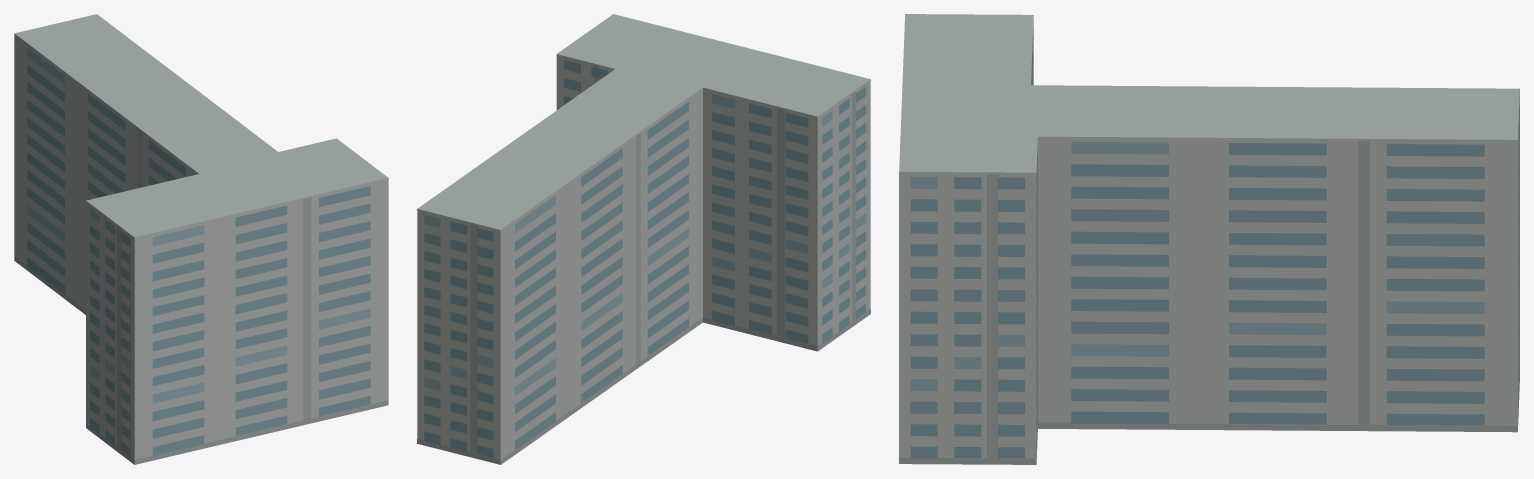
File: residential-25ec8b04-243b-4d91-824a-9ffa0737d2aa.glb
3 views of the same model, side by side, from view 1: azimuth 30°, elevation 25°; view 2: azimuth 150°, elevation 25°; view 3: azimuth 270°, elevation 25° (orthographic). The views are drawn at different scales.
Parts seen in each view (by area): view 1: residential-25ec8b04-243b-4d91-824a-9ffa0737d2aa.tmp; view 2: residential-25ec8b04-243b-4d91-824a-9ffa0737d2aa.tmp; view 3: residential-25ec8b04-243b-4d91-824a-9ffa0737d2aa.tmp.
Part boxes in pixels (left/top/right/bottom): residential-25ec8b04-243b-4d91-824a-9ffa0737d2aa.tmp: left=14, top=14, right=388, bottom=464; residential-25ec8b04-243b-4d91-824a-9ffa0737d2aa.tmp: left=417, top=14, right=870, bottom=464; residential-25ec8b04-243b-4d91-824a-9ffa0737d2aa.tmp: left=899, top=14, right=1519, bottom=464.
Size of the model in its own units: 39.6 by 34 by 65.46.
